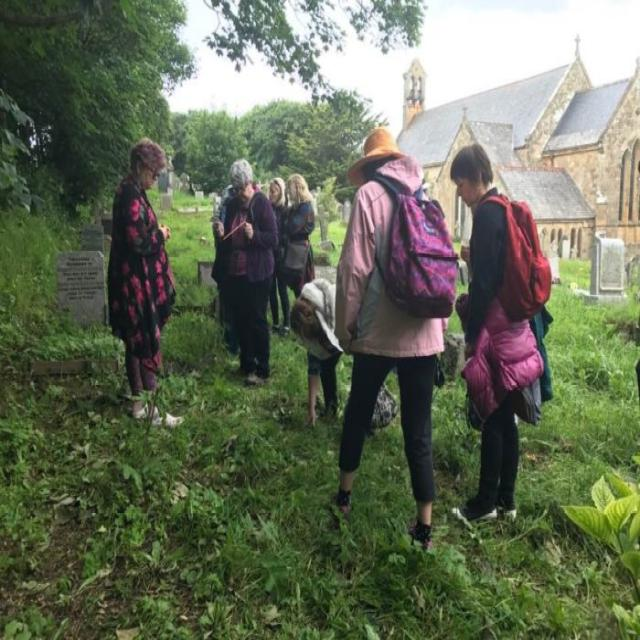body: (326, 122, 462, 552), (446, 140, 554, 529), (104, 133, 188, 433), (211, 156, 279, 389), (287, 275, 349, 433), (276, 171, 321, 301), (206, 182, 236, 348), (267, 175, 292, 339)
